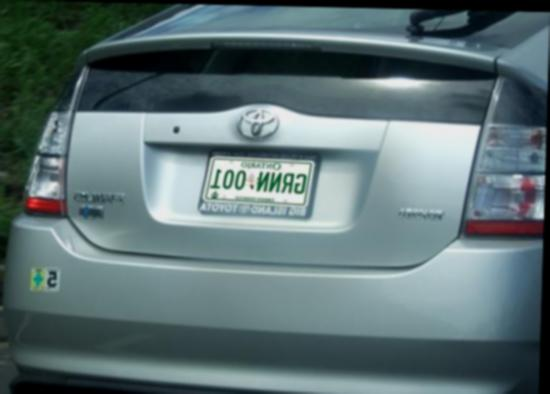License_Plate: (186, 139, 328, 224)
